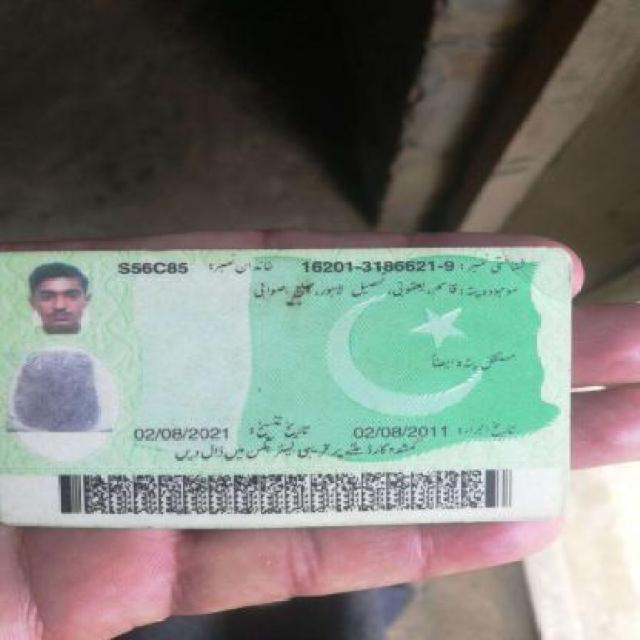Back: (8, 242, 592, 528)
